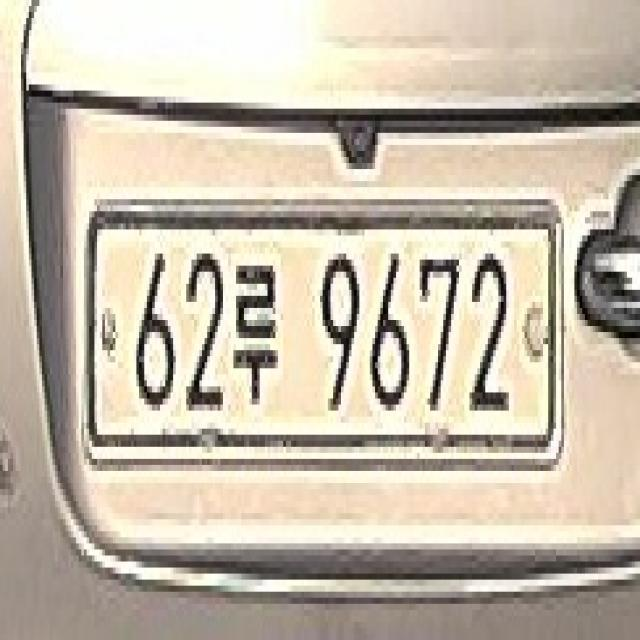2: (467, 248, 515, 420), (182, 240, 229, 415)
6: (128, 241, 178, 417), (366, 245, 414, 416)
7: (418, 242, 463, 421)
9: (312, 243, 362, 415)
license_plate: (76, 173, 570, 491)
lu: (232, 244, 282, 406)
